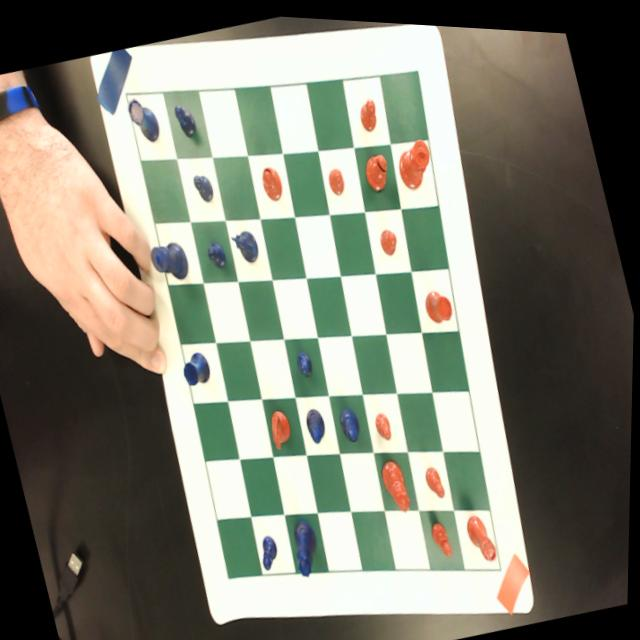B: (304, 400, 332, 442), (338, 399, 365, 441)
K: (149, 233, 194, 284)
N: (229, 221, 263, 263)
P: (258, 529, 284, 569), (173, 98, 199, 137), (192, 168, 217, 203), (206, 234, 230, 268), (296, 345, 317, 375)
Q: (289, 513, 328, 576)
R: (124, 90, 164, 146), (179, 346, 216, 387)
b: (361, 144, 394, 189), (259, 161, 286, 201)
k: (392, 130, 439, 189)
n: (267, 403, 298, 449)
p: (431, 513, 456, 556), (356, 91, 382, 130), (424, 459, 448, 497), (325, 160, 349, 194), (373, 405, 396, 439), (378, 221, 402, 253)
q: (380, 452, 416, 511)
r: (465, 505, 502, 562), (423, 280, 457, 324)
